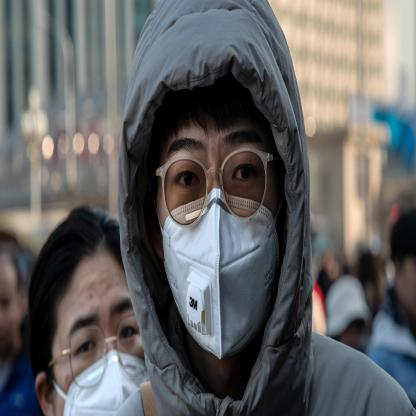Wearing_Mask: (156, 123, 280, 364), (50, 289, 149, 415)
